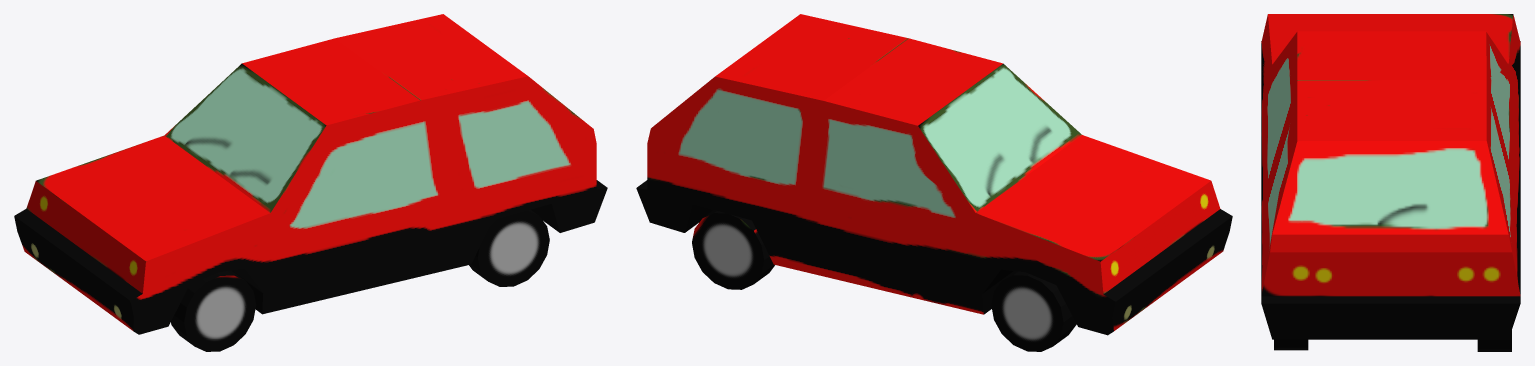
File: PandaRossa.glb
The picture shows the model from 3 angles, left to right: view 1: azimuth 30°, elevation 25°; view 2: azimuth 150°, elevation 25°; view 3: azimuth 270°, elevation 25°; orthographic projection. The views are drawn at different scales.
Visible parts, largest first — view 1: Cube; view 2: Cube; view 3: Cube.
Boxes of the visible parts, bbox=[...] form: Cube: bbox=[14, 14, 607, 351]; Cube: bbox=[636, 14, 1232, 351]; Cube: bbox=[1261, 14, 1520, 351].
Size of the model in its own units: 1.78 by 0.7105 by 0.7512.
1 material, 1 textured.
